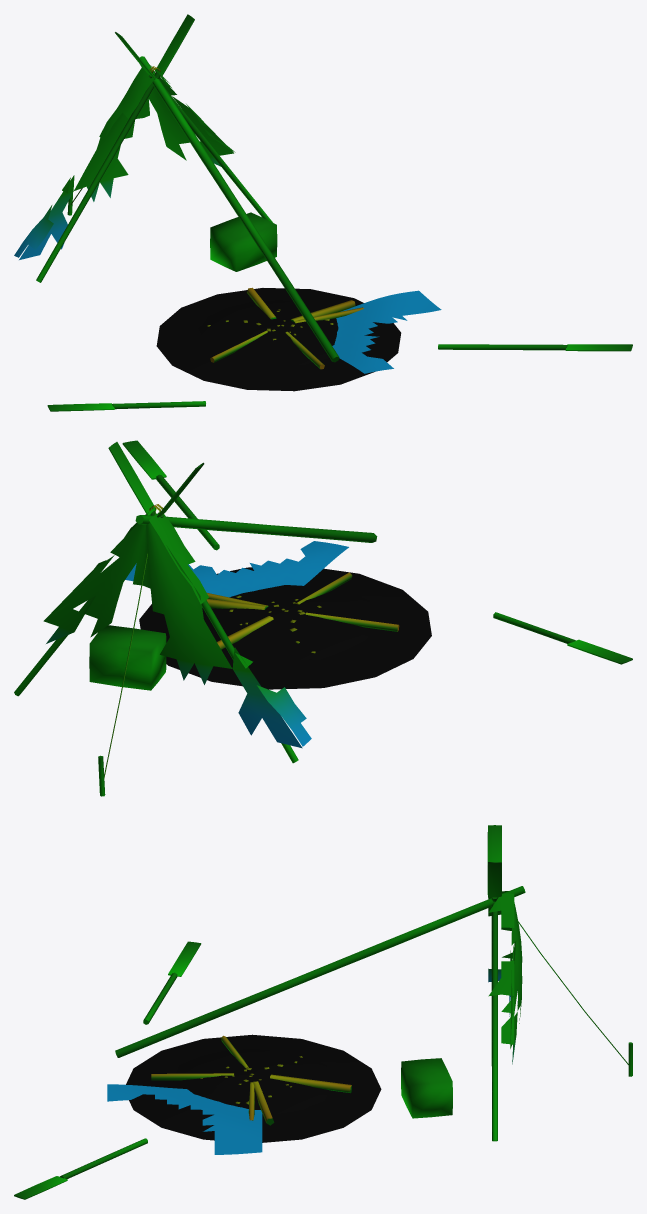
Rendered from camp_tent_burned.glb.
3 views of the same model, one above another, from view 1: azimuth 30°, elevation 25°; view 2: azimuth 150°, elevation 25°; view 3: azimuth 270°, elevation 25° (orthographic). The views are drawn at different scales.
Visible parts, largest first — view 1: camp_tent_burned; view 2: camp_tent_burned; view 3: camp_tent_burned.
Part boxes in pixels (bbox=[...]): camp_tent_burned: bbox=[14, 14, 632, 411]; camp_tent_burned: bbox=[14, 440, 632, 796]; camp_tent_burned: bbox=[14, 825, 632, 1199].
Size of what is drawn, in the model's own units: 6.28 by 2.76 by 6.39.
